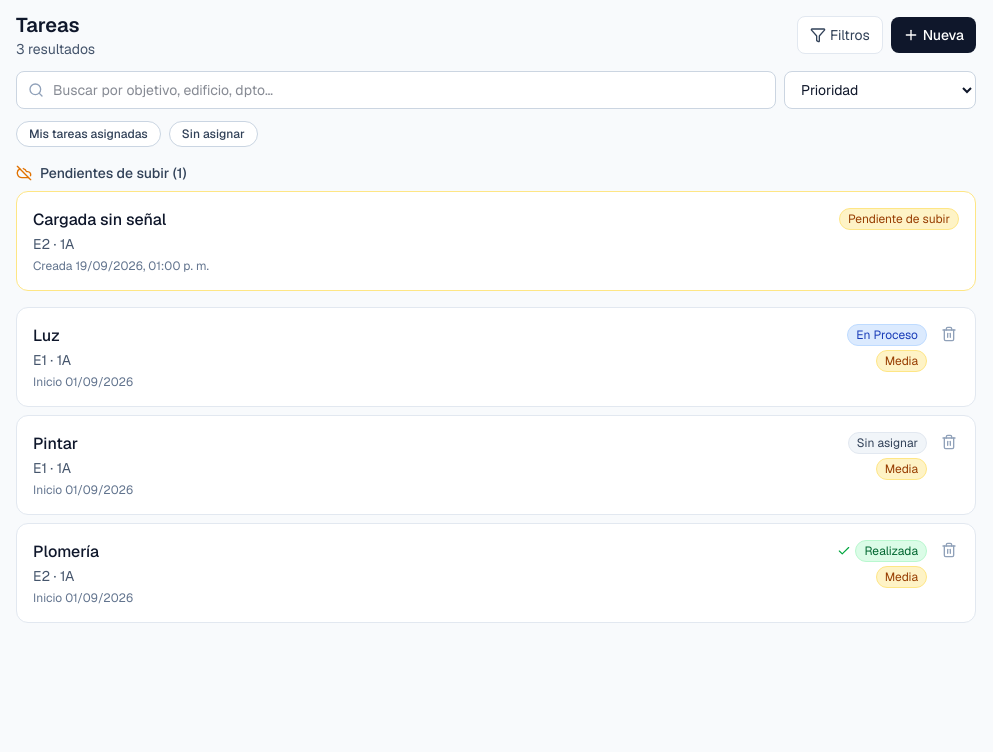
it: TareasPage — filtros en memoria › la sección de pendientes va arriba y no la afectan los filtros
Expected: the text "3 resultados" is shown, [16, 39, 95, 59]
Expected: the heading "Cargada sin señal" is shown, [33, 209, 166, 230]
Click the button "Filtros" at (840, 35), box [797, 16, 883, 54]
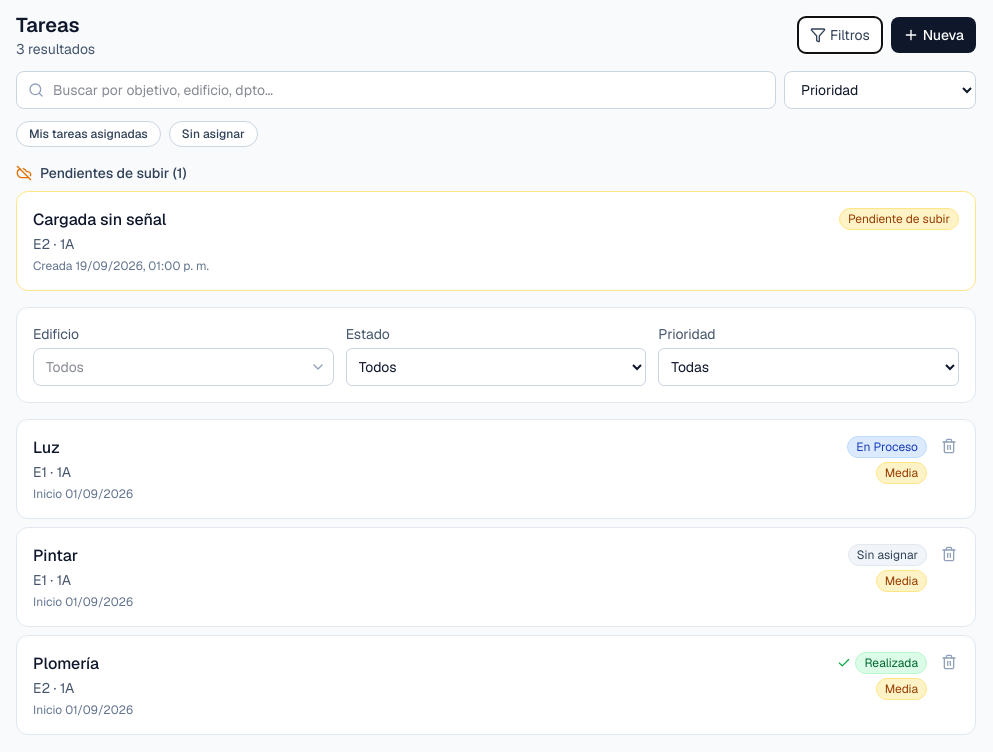
Select "En Proceso" in the dropdown labelled "Estado" at (496, 367), box [346, 348, 646, 386]
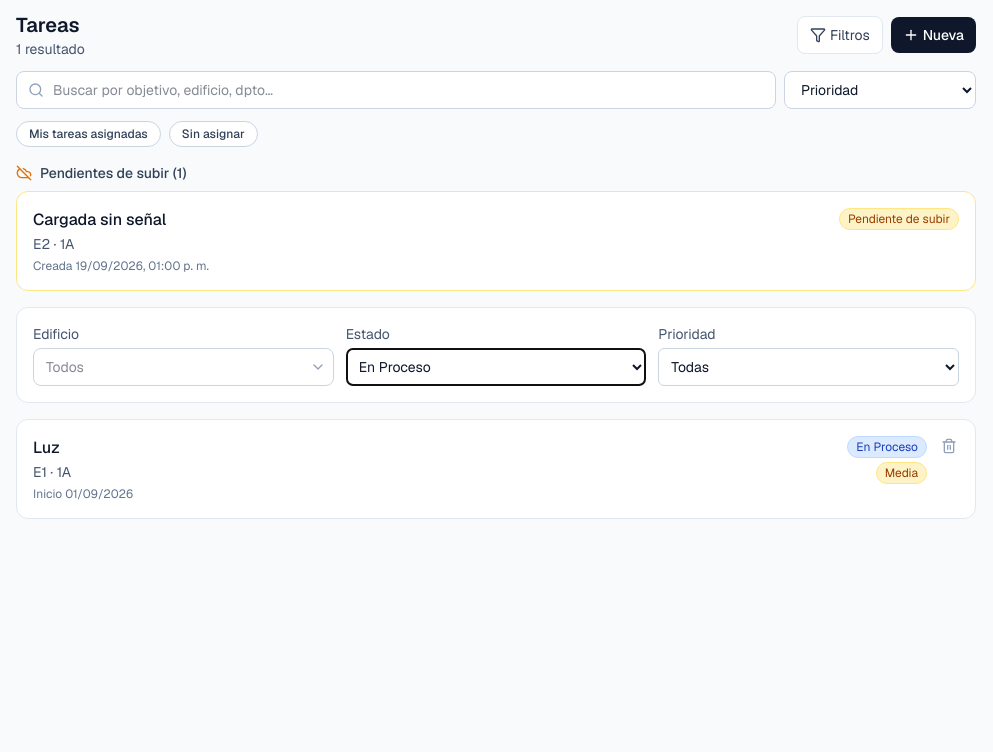
Expected: the heading "Cargada sin señal" is shown, [33, 209, 166, 230]
Result: the text "1 resultado" is shown at [16, 39, 85, 59]
